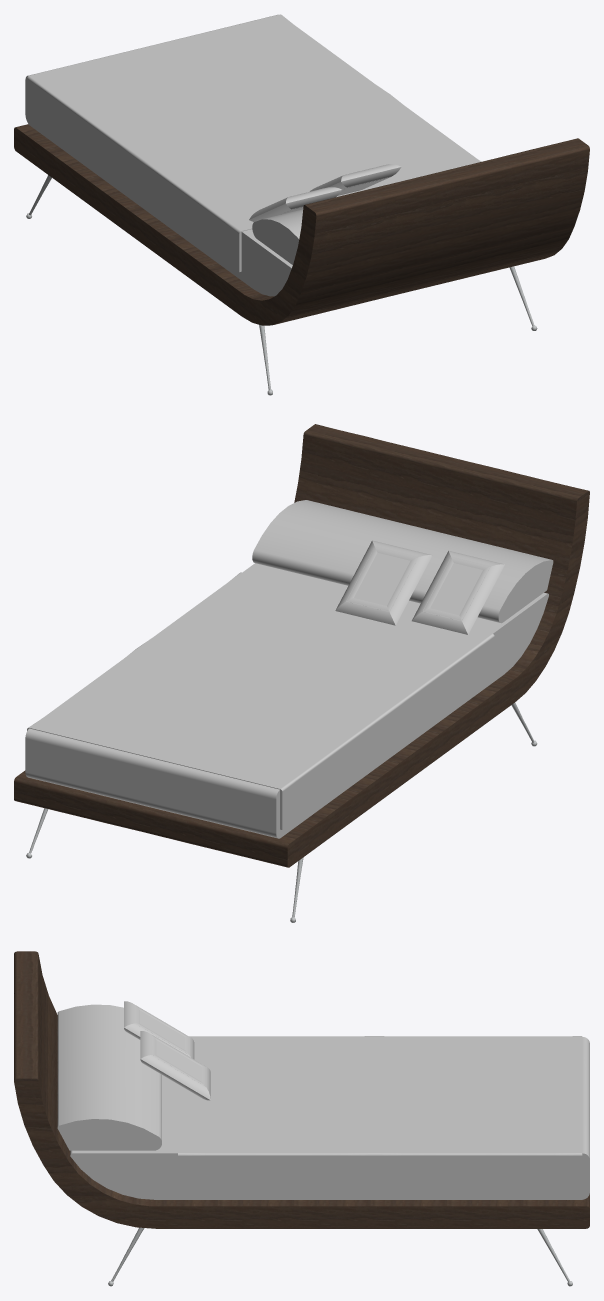
The model's file is bed_v1_mh.glb.
3 views of the same model, one above another, from view 1: azimuth 30°, elevation 25°; view 2: azimuth 150°, elevation 25°; view 3: azimuth 270°, elevation 25° (orthographic). The views are drawn at different scales.
Visible parts, largest first — view 1: Extrusion [4374]_Fabric2_0, Extrusion [4318]_Wood_0, Pied de lit Pied de lit [5670]_Steel_0; view 2: Extrusion [4374]_Fabric2_0, Extrusion [4318]_Wood_0, Pied de lit Pied de lit [5670]_Steel_0; view 3: Extrusion [4374]_Fabric2_0, Extrusion [4318]_Wood_0, Pied de lit Pied de lit [5670]_Steel_0.
Boxes of the visible parts, x1=… form: Extrusion [4374]_Fabric2_0: x1=25, y1=14, x2=480, y2=296; Extrusion [4318]_Wood_0: x1=14, y1=124, x2=589, y2=325; Pied de lit Pied de lit [5670]_Steel_0: x1=26, y1=175, x2=537, y2=395; Extrusion [4374]_Fabric2_0: x1=25, y1=500, x2=553, y2=838; Extrusion [4318]_Wood_0: x1=14, y1=424, x2=589, y2=867; Pied de lit Pied de lit [5670]_Steel_0: x1=26, y1=702, x2=537, y2=922; Extrusion [4374]_Fabric2_0: x1=57, y1=1001, x2=589, y2=1199; Extrusion [4318]_Wood_0: x1=14, y1=951, x2=589, y2=1228; Pied de lit Pied de lit [5670]_Steel_0: x1=108, y1=1227, x2=572, y2=1286.
Size of the model in its own units: 1.2 by 0.9239 by 2.3.
Materials: 3 (2 with a texture image).
